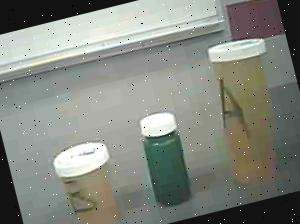Bottle A: (195, 27, 300, 197)
Bottle B: (44, 132, 129, 224)
Bottle C: (124, 102, 207, 217)
